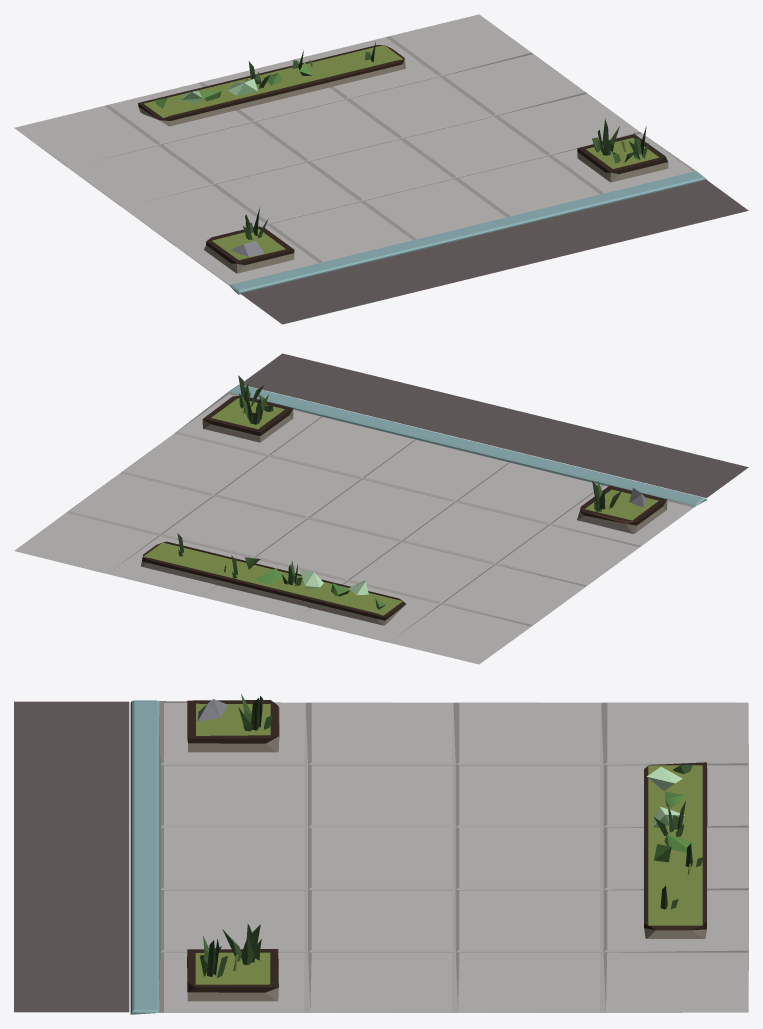
Rendered from QmTNVGS4kVYt9mxsHiBP4XPCkWXw1GB3e1gDtJ1VoeQ8fv_lod2.fbx.
The picture shows the model from 3 angles, top to bottom: view 1: azimuth 30°, elevation 25°; view 2: azimuth 150°, elevation 25°; view 3: azimuth 270°, elevation 25°; orthographic projection. The views are drawn at different scales.
Visible parts, largest first — view 1: Entity_512; view 2: Entity_512; view 3: Entity_512.
Boxes of the visible parts, <box> form: Entity_512: <box>14,14,748,324</box>; Entity_512: <box>14,353,748,664</box>; Entity_512: <box>14,694,748,1014</box>.
Bounding box in the file's own units: 16000 × 1380 × 15918.
Materials: 1 (1 with a texture image).
